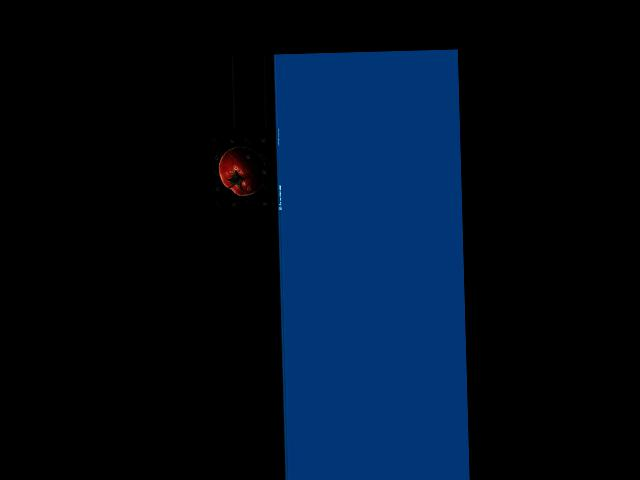tomato: (218, 145, 266, 196)
